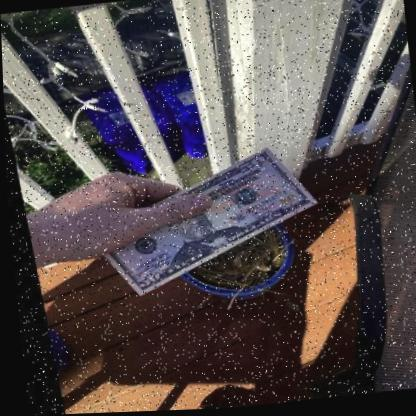fifty-front: (84, 149, 313, 298)
